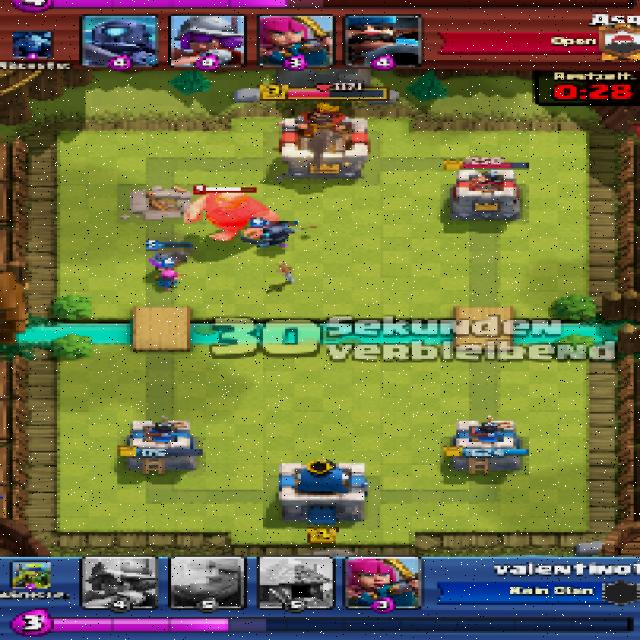Enemy-Giant: (186, 189, 276, 240)
Player-Archer: (154, 269, 183, 288)
Player-Musketeer: (242, 222, 296, 247), (149, 248, 187, 266)
